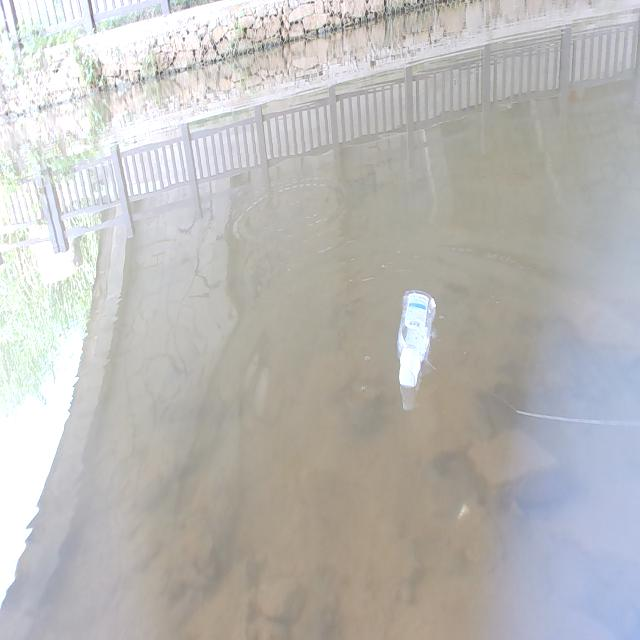bottle: (384, 257, 451, 408)
